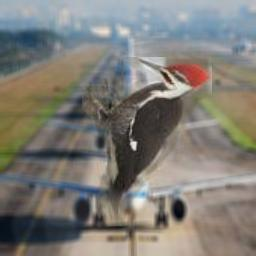Woodpecker: (82, 57, 212, 226)
